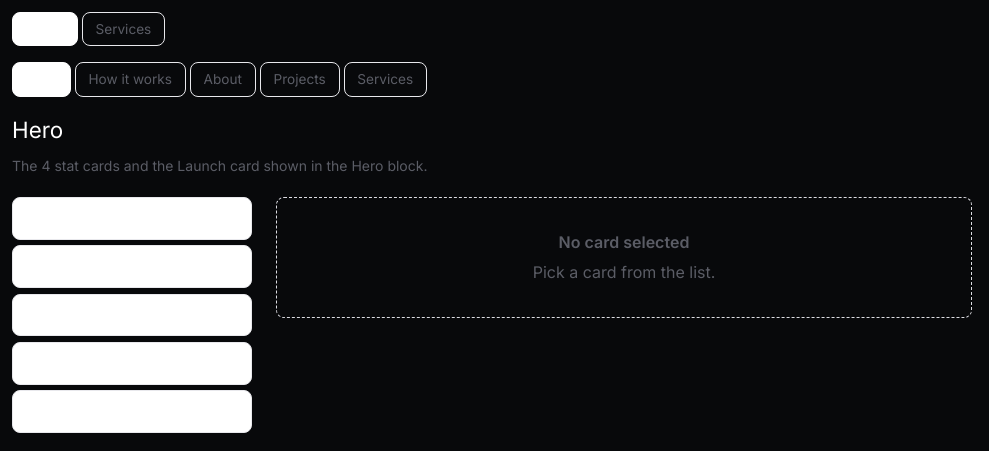
it: CardsPage › Home → Projects and Home → Services show only the home-page lists
The width and height of the screenshot is (989, 451).
What coordinates should you click on to do the following:
click the tab "Projects"
I would click on:
 (300, 79)
Its box is [260,62,340,97].
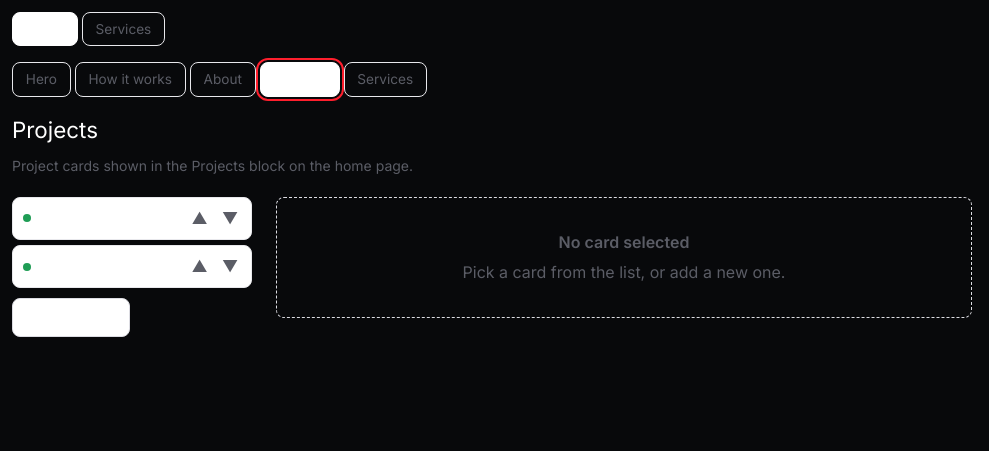
What coordinates should you click on to do the following:
click the 2nd tab "Services"
I would click on:
 (385, 79)
Its box is [344,62,427,97].
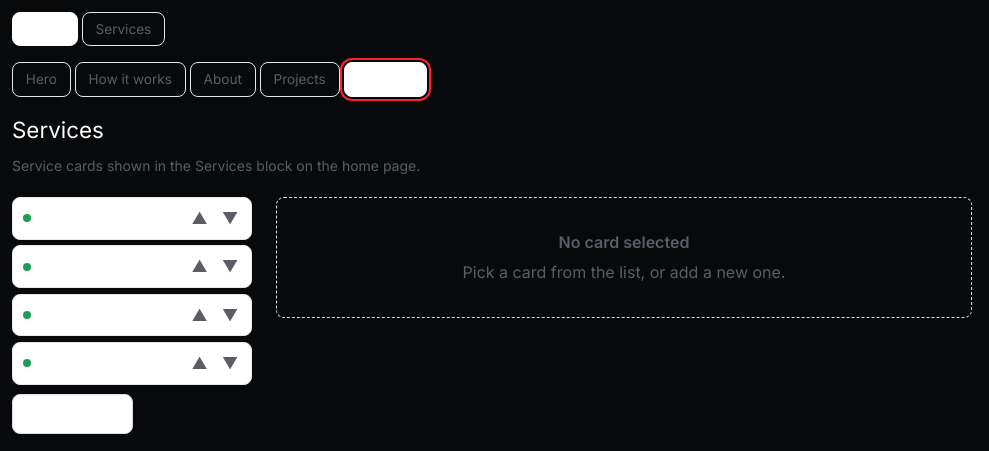
Expected: the button "+ Add service" is shown, [12,394,132,434]
